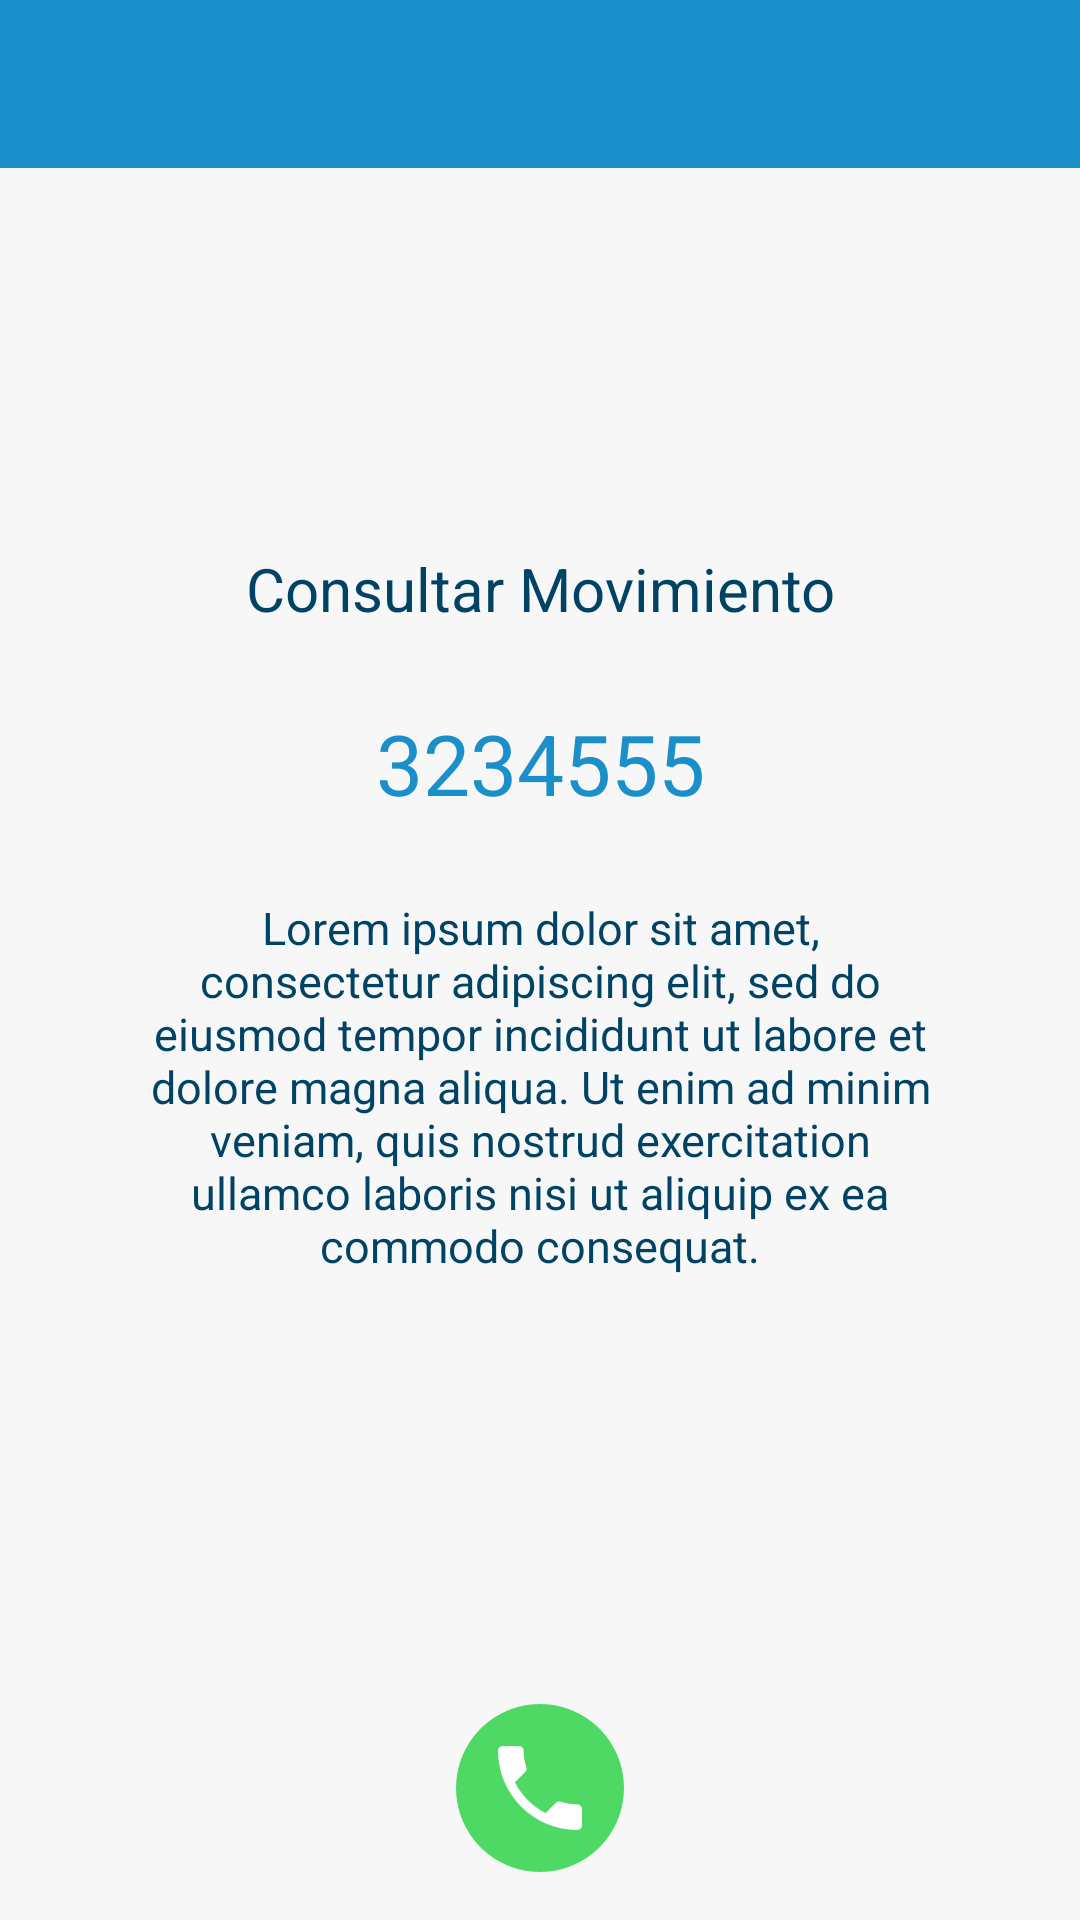

Named icons in this screenshot (1080x1920) and their bounding boxes, (x1, y1, x2, y2):
call: (456, 1704, 624, 1872)
